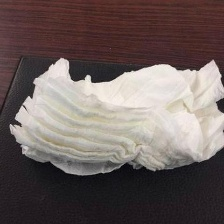tissue: (3, 51, 224, 180)
